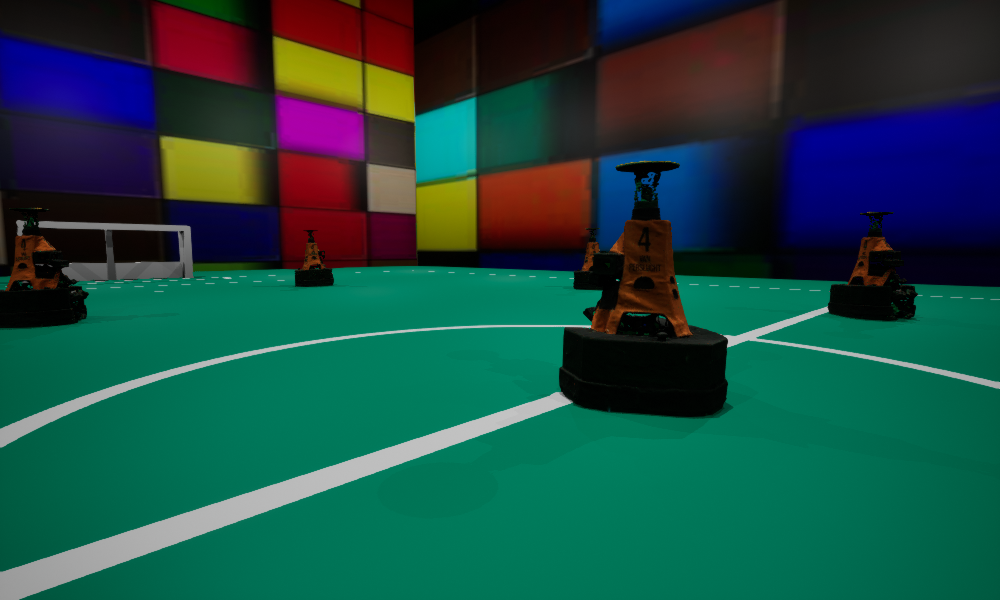0 orange robot TechUnited: (559, 161, 727, 416), (0, 208, 88, 327), (828, 212, 917, 320), (573, 228, 611, 289), (295, 230, 333, 286)
